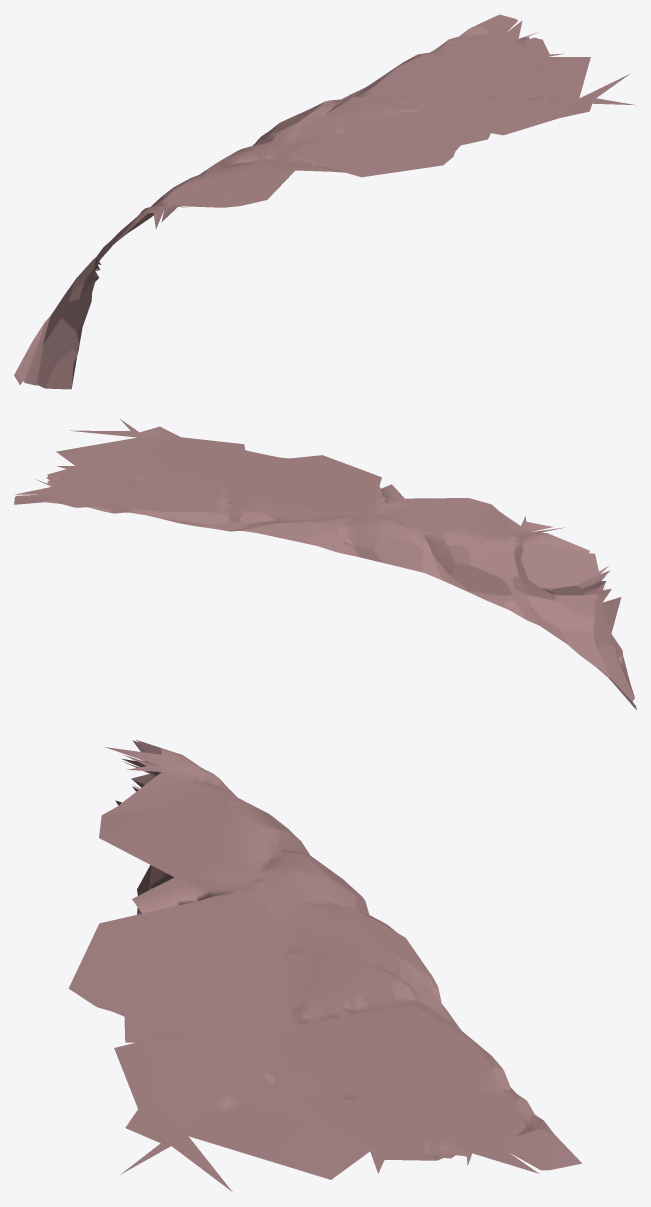
The model's file is cliff_area_2.fbx_Cliff_Area_2LODs.fbx.
3 renders of one model, top to bottom at view 1: azimuth 30°, elevation 25°; view 2: azimuth 150°, elevation 25°; view 3: azimuth 270°, elevation 25°, orthographic. The views are drawn at different scales.
Parts seen in each view (by area): view 1: Cliff Area 2_LOD0; view 2: Cliff Area 2_LOD0; view 3: Cliff Area 2_LOD0.
Boxes of the visible parts, x1,y1,x2,y2 form: Cliff Area 2_LOD0: (14,14,636,389); Cliff Area 2_LOD0: (14,419,636,709); Cliff Area 2_LOD0: (68,740,581,1191).
Size of what is drawn, in the model's own units: 5982 by 1488 by 2346.
